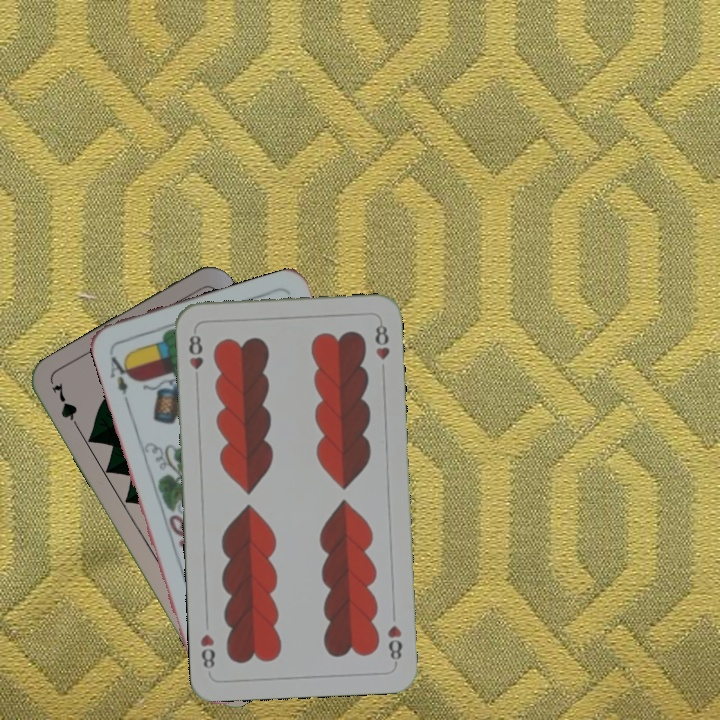EA: (105, 351, 135, 405)
G7: (47, 379, 84, 435)
H8: (185, 331, 206, 386), (383, 621, 405, 667)
